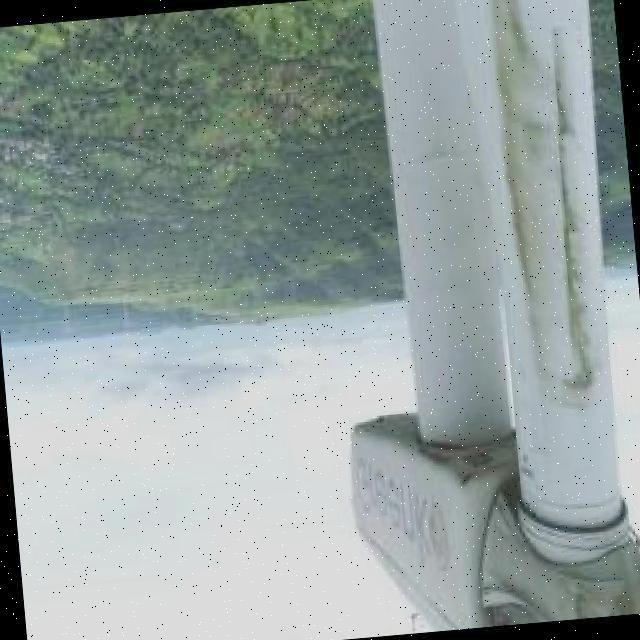Dirt: (487, 0, 610, 413)
